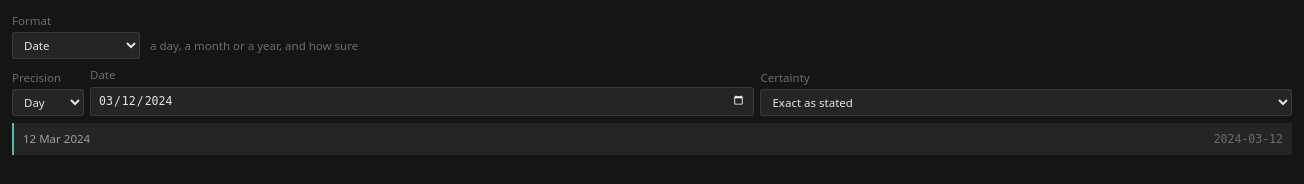
Test: the day a date is › has no clock row for a date as a bare field, and one for a time
Select "Date and time" in the dropdown named "Date format". click: (76, 46)
box: [12, 32, 140, 59]
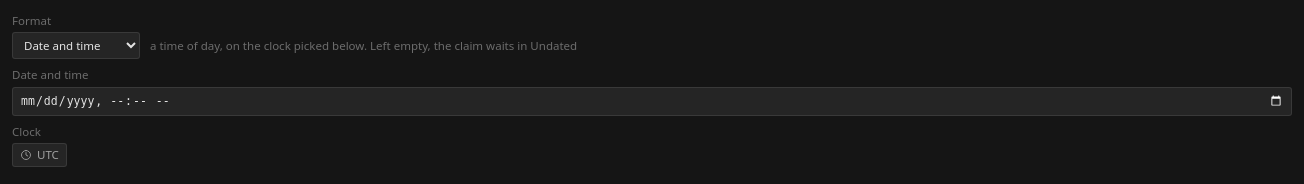
Result: the button with class "clock-trigger" is shown at [12, 143, 67, 167]
